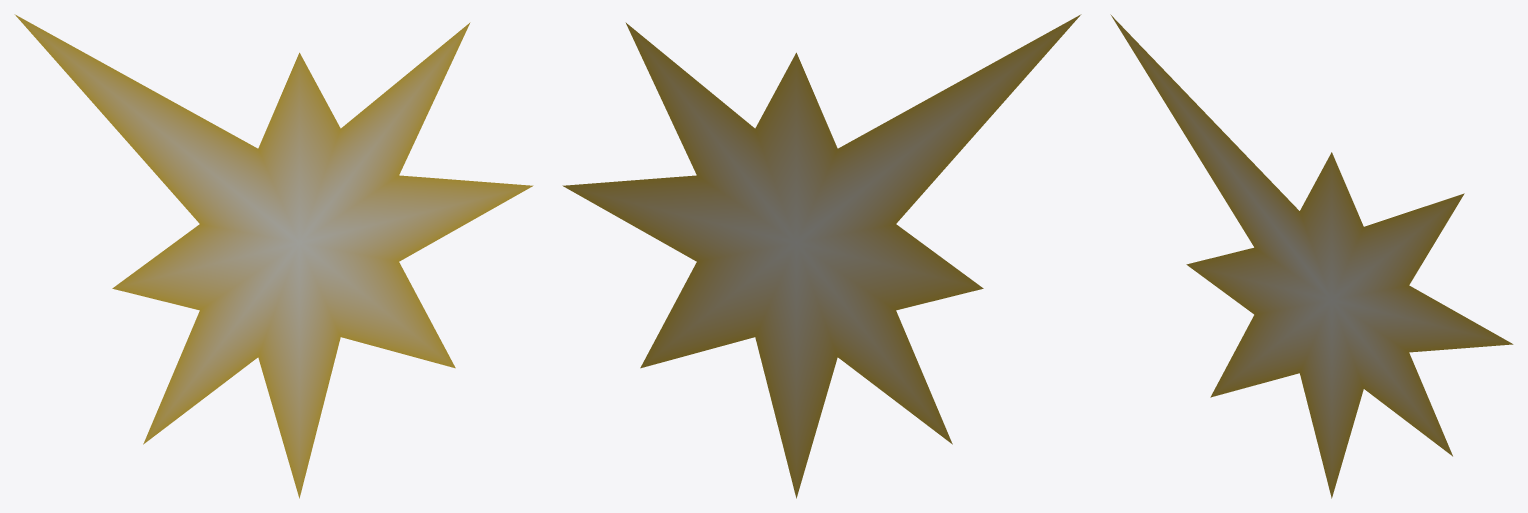
File: burst.glb
The picture shows the model from 3 angles, left to right: view 1: azimuth 30°, elevation 25°; view 2: azimuth 150°, elevation 25°; view 3: azimuth 330°, elevation 25°; orthographic projection. The views are drawn at different scales.
Parts seen in each view (by area): view 1: BurstMesh; view 2: BurstMesh; view 3: BurstMesh.
Part boxes in pixels (x1,y1,x2,y2): BurstMesh: [14, 14, 533, 498]; BurstMesh: [562, 14, 1081, 498]; BurstMesh: [1110, 14, 1513, 498].
Bounding box in the file's own units: 0.6986 × 0.7126 × 0.
